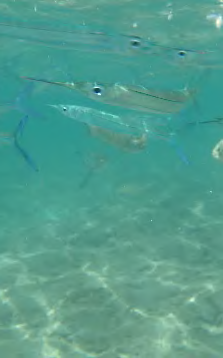sayori: (39, 92, 185, 170)
